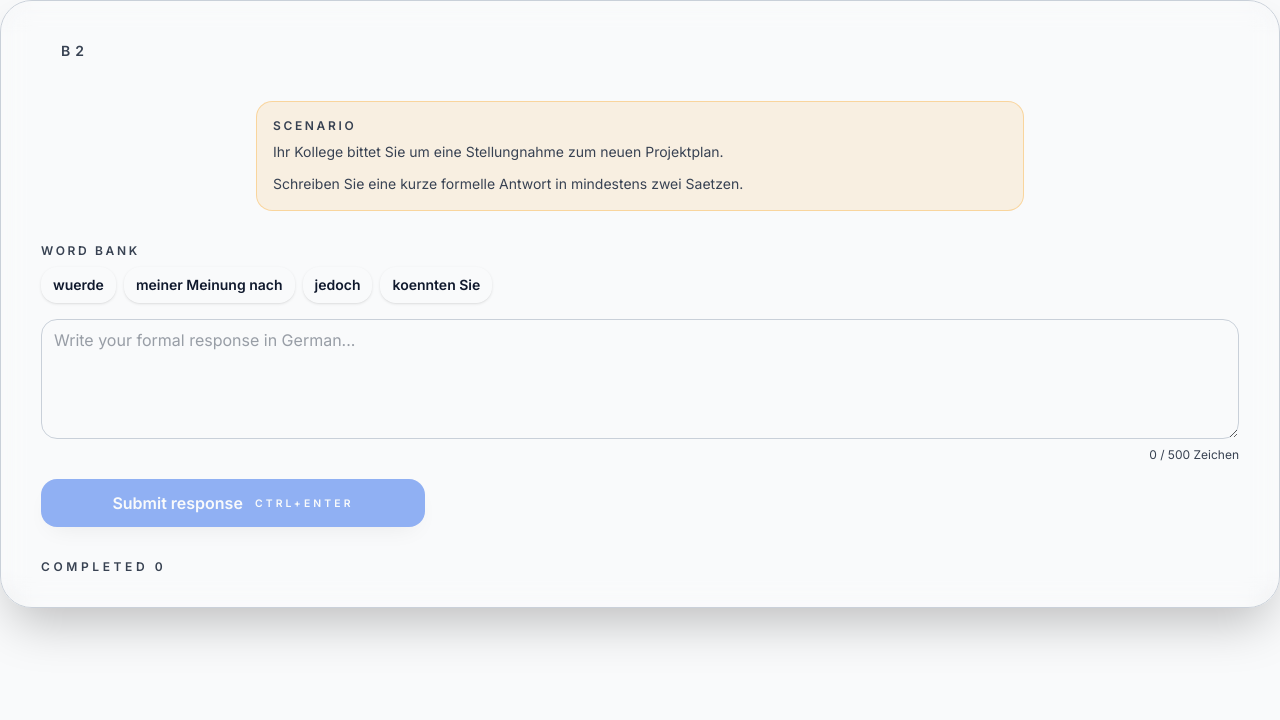
Test: PracticeCard › requests AI feedback for B2 writing prompts and renders the returned feedback
Expected: the text "Ihr Kollege bittet Sie um eine Stellungnahme zum neuen Projektplan." is shown, [273, 143, 724, 160]
In the text box named "write your b2 response": [640, 379] box [41, 319, 1239, 439], type "Ich wuerde den Vorschlag so umsetzen. Meiner Meinung nach sollten wir den Plan frueher teilen."
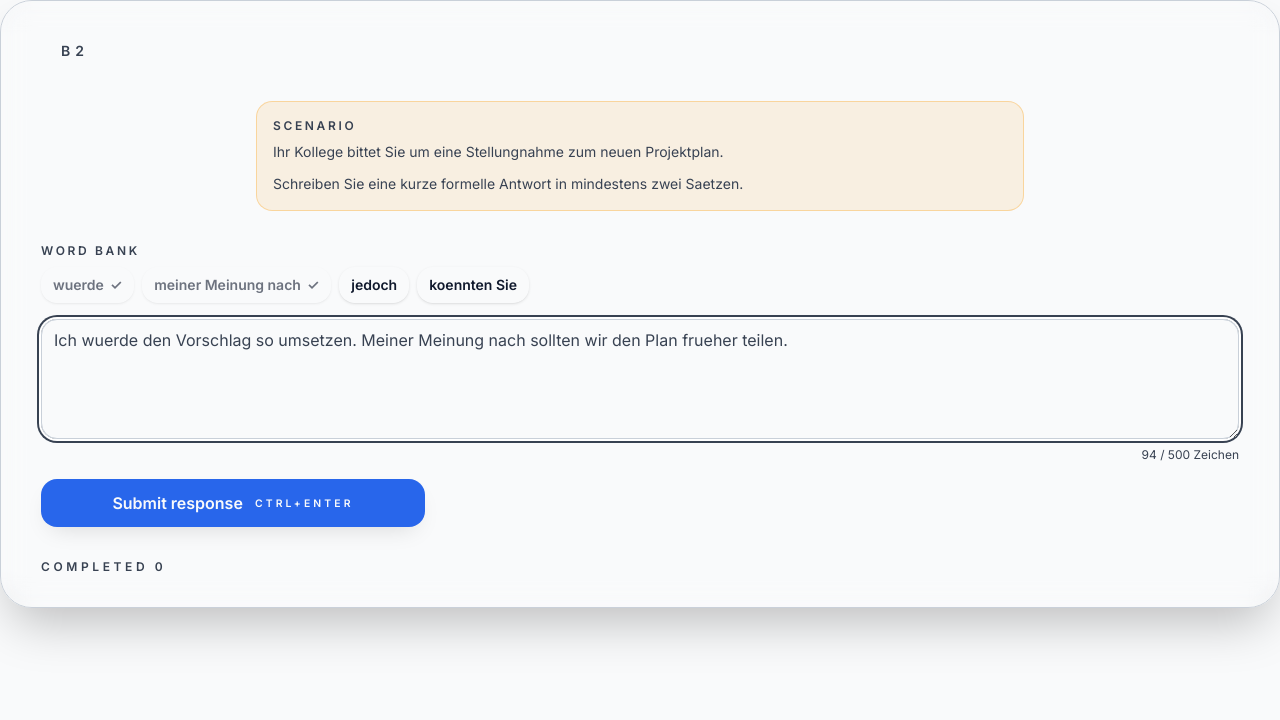
Click the button "Submit response Ctrl+Enter": [233, 503] box [41, 479, 425, 527]
(page scrolled)
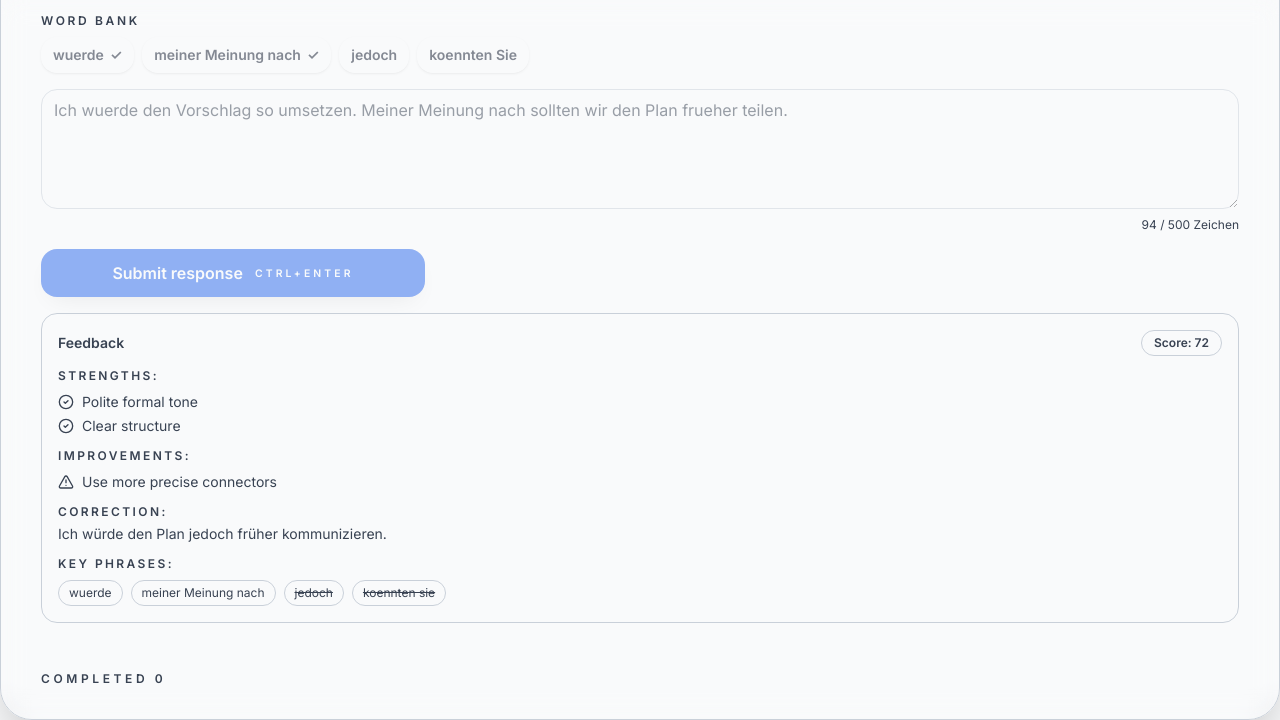
Result: the text "Feedback" is shown at [58, 333, 124, 353]
Result: the text "Strengths:" is shown at [58, 368, 159, 383]
Result: the text "Improvements:" is shown at [58, 448, 191, 463]
